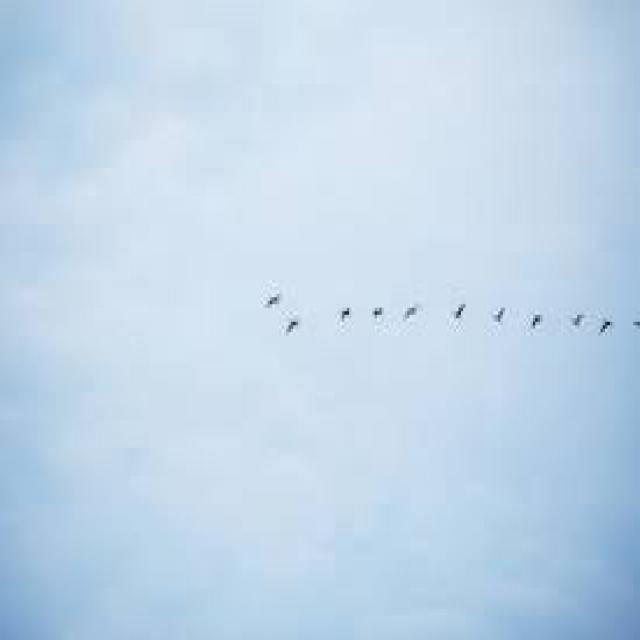bird: (385, 244, 434, 358), (242, 255, 289, 315), (358, 292, 396, 366), (444, 280, 478, 360), (516, 295, 552, 355), (264, 280, 299, 336), (593, 302, 617, 358), (494, 303, 520, 352), (322, 297, 358, 329), (565, 304, 589, 343)
